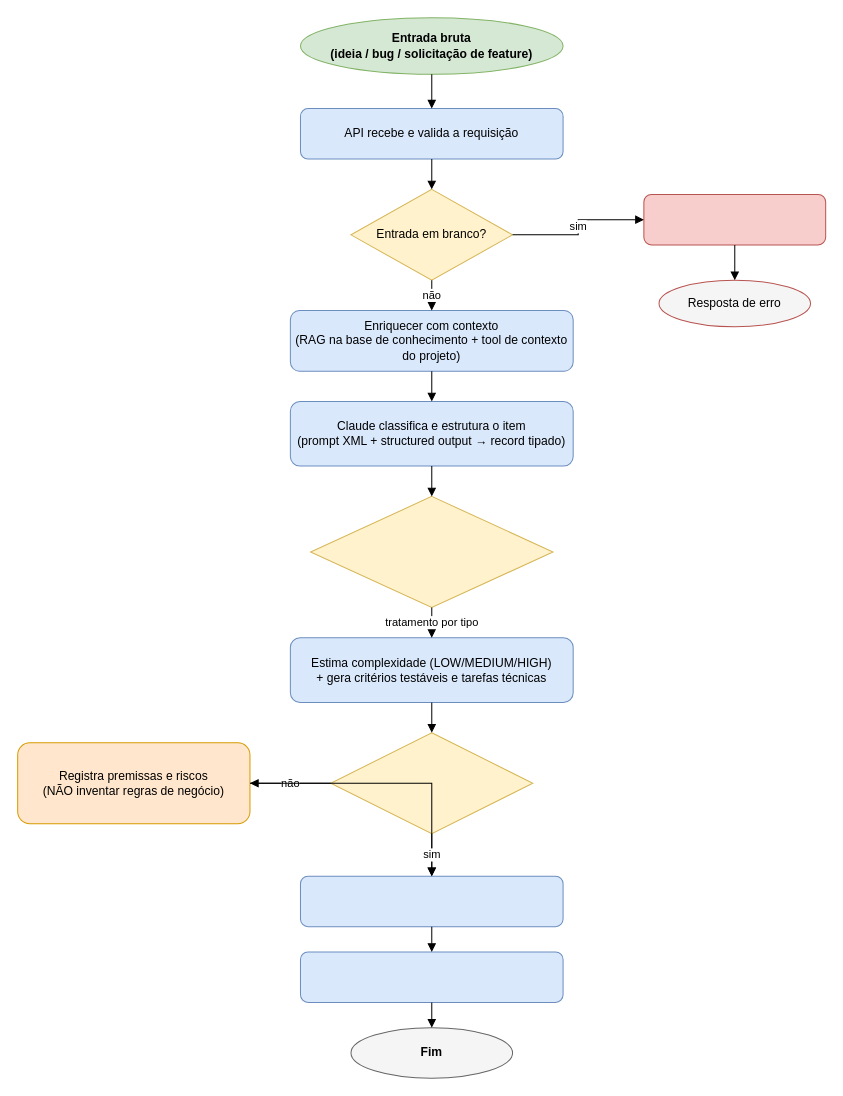
Some shapes in this 843 by 1096 pixel diagram are drawn without their labels. Each missing label, with the box of its shape:
Contexto suficiente para decidir?: (330, 732, 533, 834)
Persiste o item de backlog (PostgreSQL): (299, 875, 563, 927)
Retorna 400 { "error": ... }: (643, 193, 826, 245)
Retorna item estruturado + fontes citadas: (299, 951, 563, 1002)
Roteia por tipo? FEATURE · BUG · REFACTOR · ARCHITECTURE: (310, 495, 553, 608)
